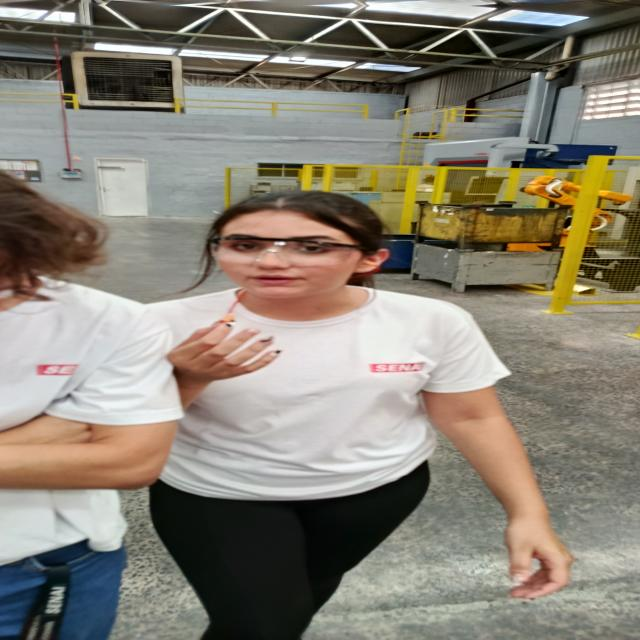oculos-epi: (213, 234, 362, 266)
